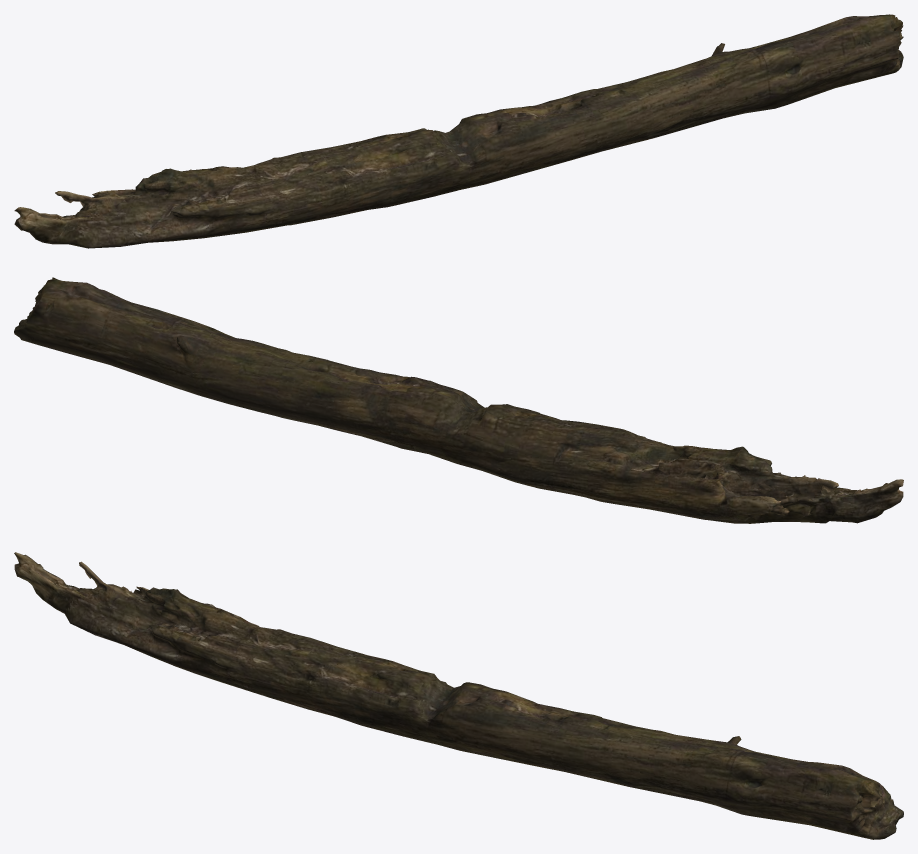
The model's file is dead_tree_trunk.glb.
3 renders of one model, top to bottom at view 1: azimuth 30°, elevation 25°; view 2: azimuth 150°, elevation 25°; view 3: azimuth 330°, elevation 25°, orthographic.
Parts seen in each view (by area): view 1: dead_tree_trunk; view 2: dead_tree_trunk; view 3: dead_tree_trunk.
Part boxes in pixels (x1,y1,x2,y2): dead_tree_trunk: (14, 14, 903, 248); dead_tree_trunk: (14, 277, 903, 523); dead_tree_trunk: (14, 552, 903, 839).
Bounding box in the file's own units: 3.05 × 0.2904 × 0.2773.
Materials: 1 (1 with a texture image).
